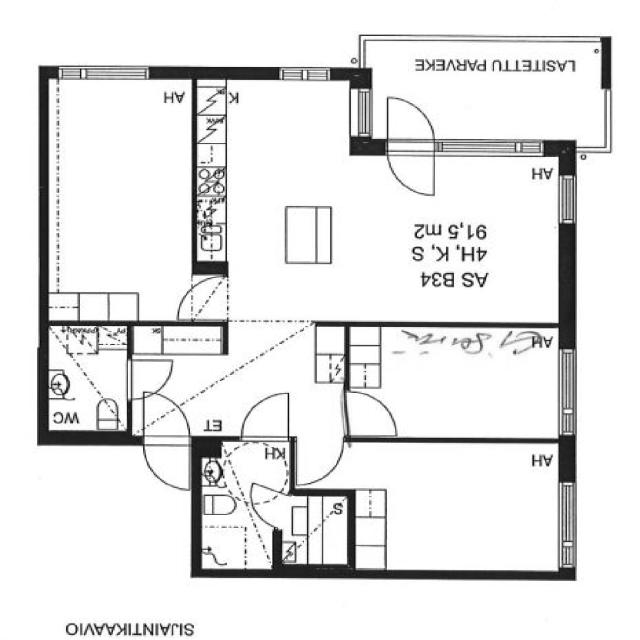door: (382, 94, 438, 199), (136, 390, 194, 488), (235, 387, 293, 445), (172, 269, 228, 320), (341, 386, 396, 434), (123, 354, 175, 403)
window: (552, 343, 582, 442), (438, 134, 551, 160), (553, 476, 581, 572), (51, 62, 154, 85), (344, 84, 374, 145), (555, 172, 579, 232), (271, 63, 337, 84)
zone: (324, 150, 566, 322), (49, 73, 199, 326), (341, 439, 568, 575), (193, 69, 344, 266), (346, 325, 566, 442), (195, 434, 287, 570), (44, 323, 130, 433), (280, 493, 351, 570), (281, 206, 336, 266)
